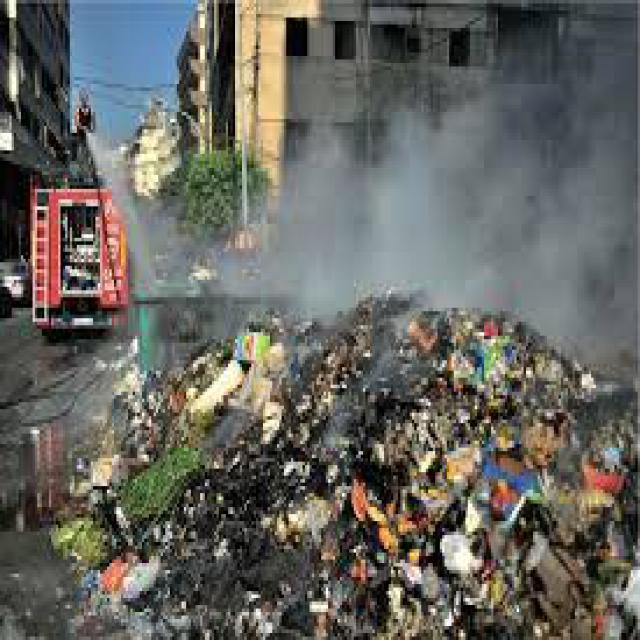Smoke: (163, 131, 640, 413)
